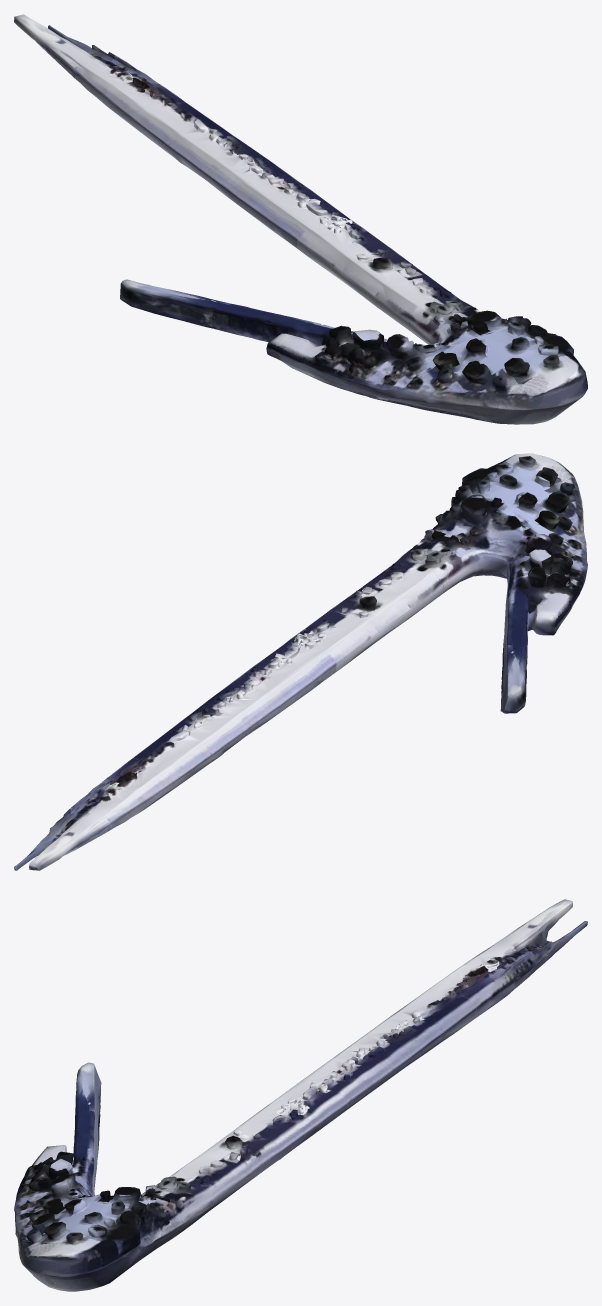
File: center-02.glb
3 views of the same model, one above another, from view 1: azimuth 30°, elevation 25°; view 2: azimuth 150°, elevation 25°; view 3: azimuth 330°, elevation 25° (orthographic). The views are drawn at different scales.
Size of the model in its own units: 0.4157 by 0.0981 by 1.57.
Materials: 1 (1 with a texture image).
